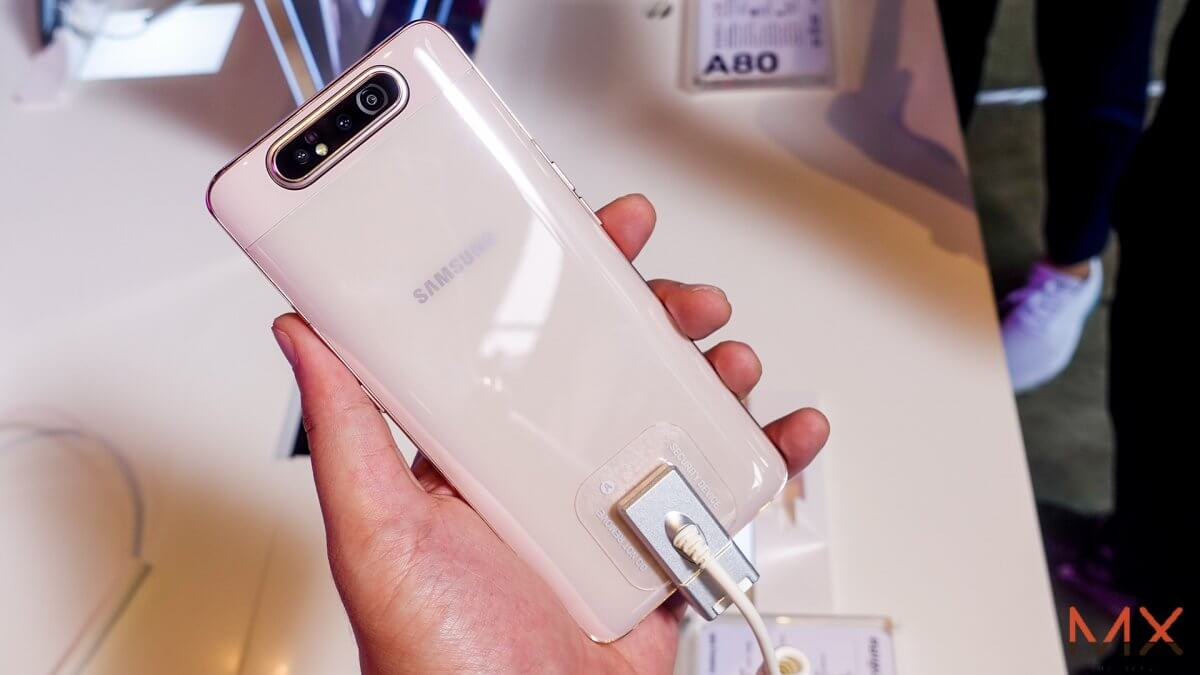Phone: (205, 18, 791, 647)
